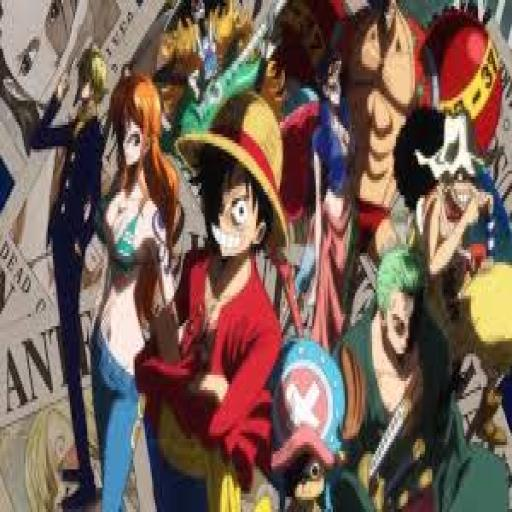Luffy: (153, 97, 291, 512)
Nami: (87, 73, 166, 512)
NicoRobin: (307, 48, 358, 350)
Usopp: (396, 101, 512, 448)
Zoro: (324, 225, 462, 512)
sanji: (34, 34, 113, 512)
